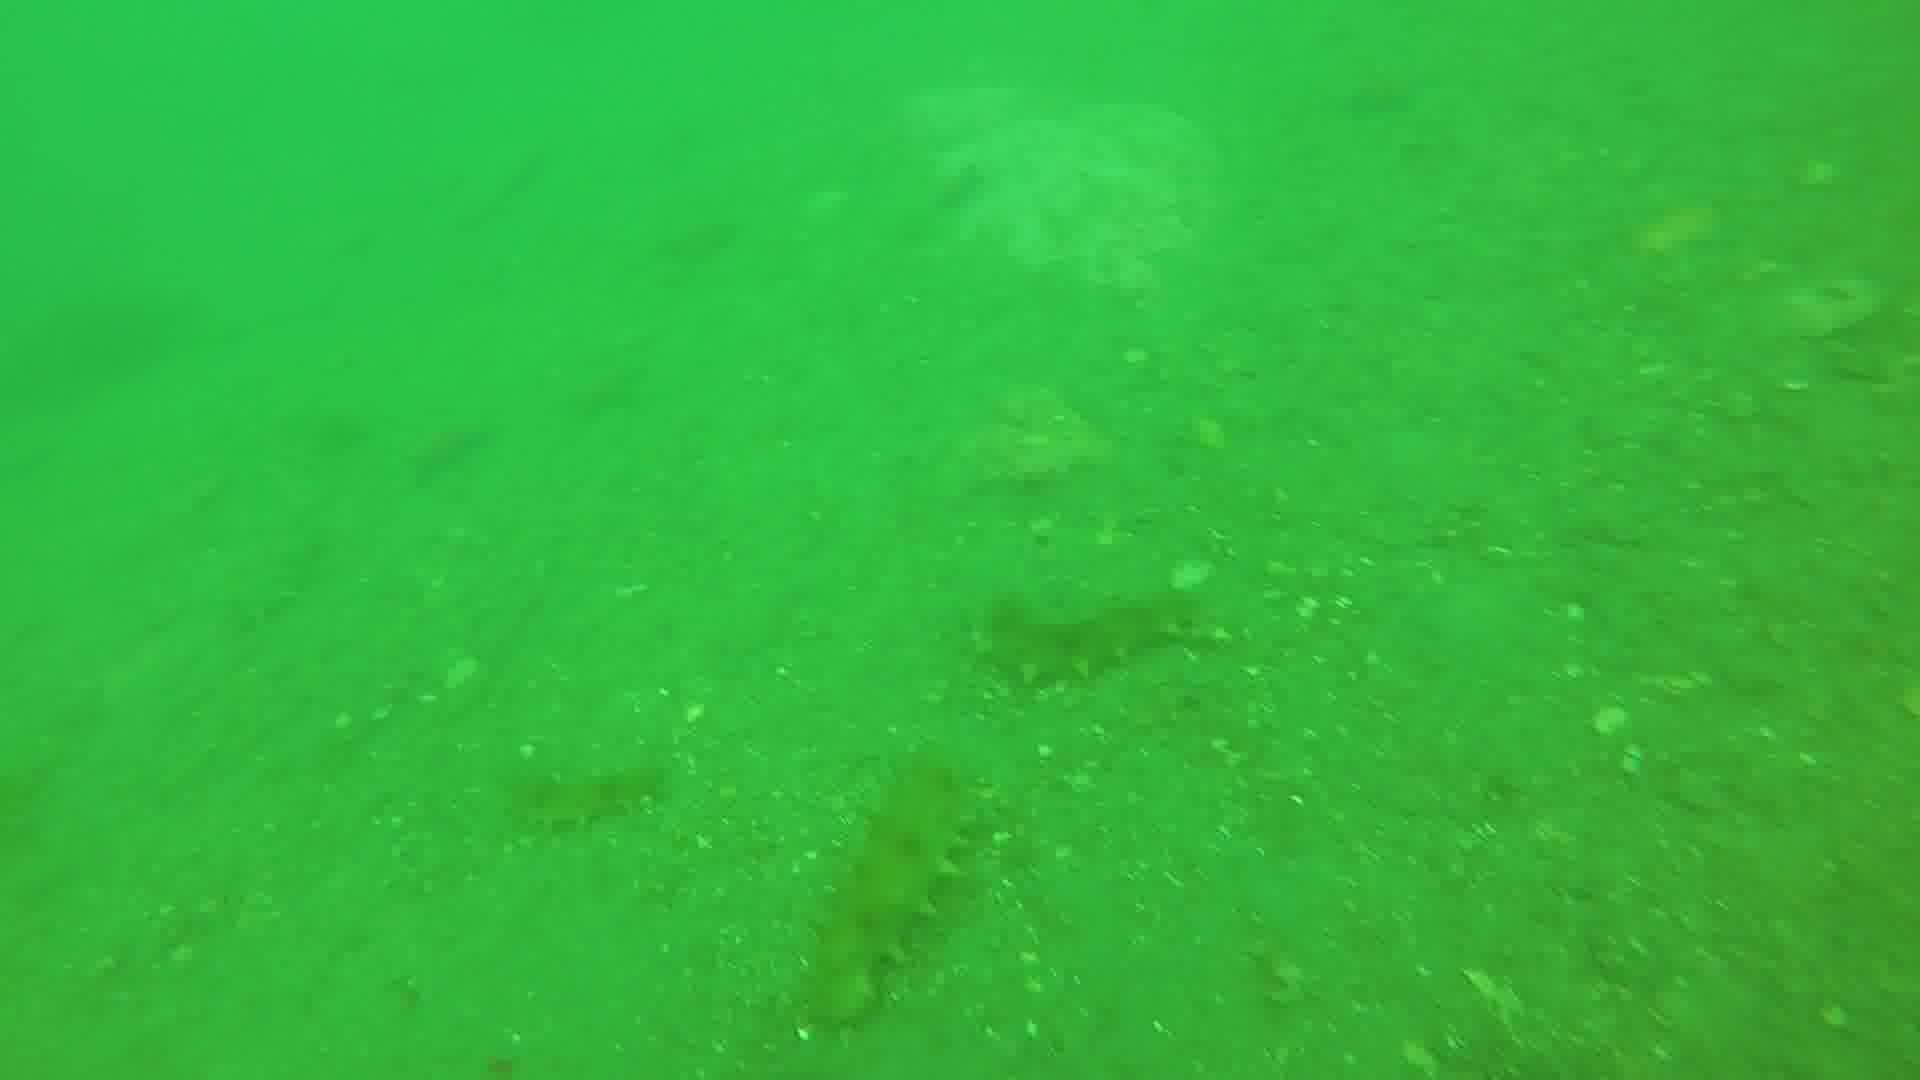holothurian: (814, 752, 969, 1019), (977, 580, 1195, 679), (488, 757, 676, 844), (206, 538, 330, 638)
starfish: (415, 411, 500, 504)
